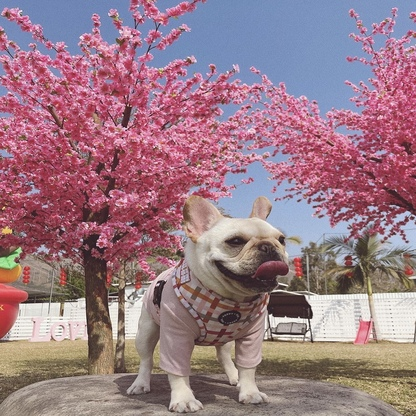bulldog: (125, 191, 293, 416)
